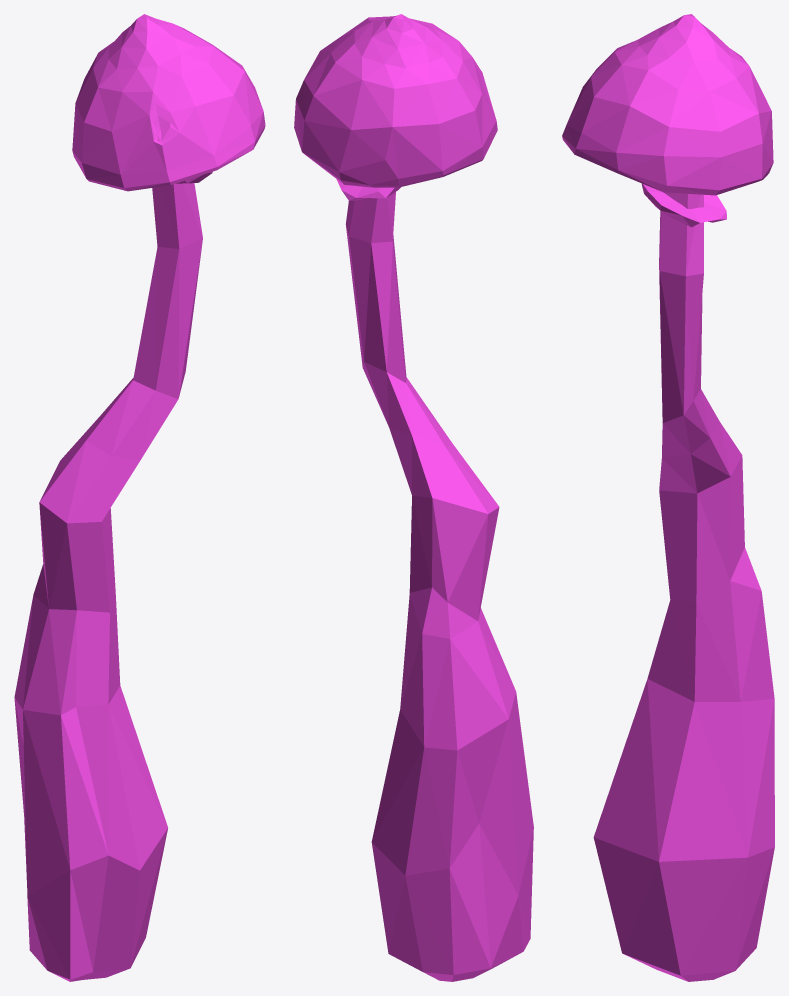
File: SM_Mushroom_Slim_Big_D_Fantasy.fbx
3 views of the same model, side by side, from view 1: azimuth 30°, elevation 25°; view 2: azimuth 150°, elevation 25°; view 3: azimuth 270°, elevation 25° (orthographic). The views are drawn at different scales.
Visible parts, largest first — view 1: SM_Mushroom_Slim_Big_D_Fantasy; view 2: SM_Mushroom_Slim_Big_D_Fantasy; view 3: SM_Mushroom_Slim_Big_D_Fantasy.
Boxes of the visible parts, x1,y1,x2,y2 form: SM_Mushroom_Slim_Big_D_Fantasy: (14, 14, 265, 981); SM_Mushroom_Slim_Big_D_Fantasy: (294, 14, 533, 981); SM_Mushroom_Slim_Big_D_Fantasy: (562, 14, 774, 981).
Bounding box in the file's own units: 1.21 × 4.91 × 0.9648.
